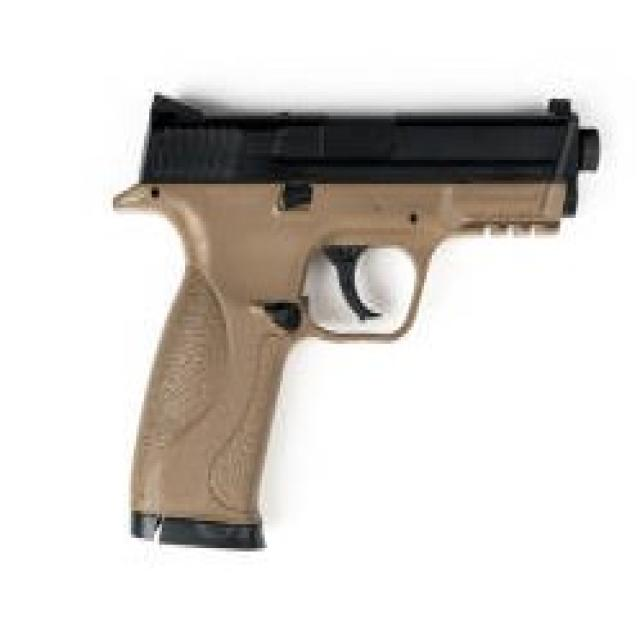pistol: (107, 89, 611, 559)
